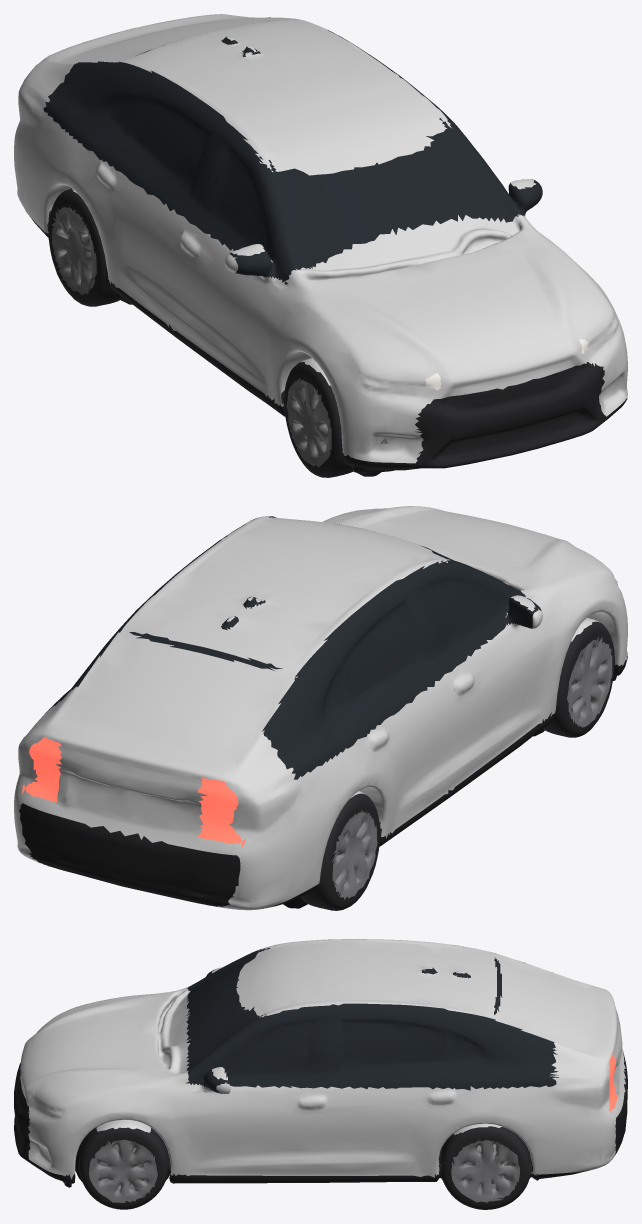
The model's file is EverydaySedan.fbx.
The picture shows the model from 3 angles, top to bottom: view 1: azimuth 30°, elevation 25°; view 2: azimuth 150°, elevation 25°; view 3: azimuth 270°, elevation 25°; orthographic projection. The views are drawn at different scales.
Parts seen in each view (by area): view 1: Body_Paint, Glass, Body_Trim, Wheel_FL_rim, Wheel_RL_rim, Wheel_RL_tyre, Wheel_FL_tyre; view 2: Body_Paint, Glass, Body_Trim, LightsRear, Wheel_FL_rim, Wheel_RL_rim, Wheel_RL_tyre, Wheel_FL_tyre; view 3: Body_Paint, Glass, Body_Trim, Wheel_RR_rim, Wheel_FR_rim, Wheel_RR_tyre, Wheel_FR_tyre.
Boxes of the visible parts, <box> form: Body_Paint: <box>14,14,627,463</box>; Glass: <box>43,17,542,284</box>; Body_Trim: <box>26,211,627,472</box>; Wheel_FL_rim: <box>286,378,331,467</box>; Wheel_RL_rim: <box>51,207,97,294</box>; Wheel_RL_tyre: <box>47,188,123,306</box>; Wheel_FL_tyre: <box>281,362,353,477</box>; Body_Paint: <box>14,506,627,910</box>; Glass: <box>45,516,541,779</box>; Body_Trim: <box>19,652,627,908</box>; LightsRear: <box>22,737,245,847</box>; Wheel_FL_rim: <box>567,636,612,727</box>; Wheel_RL_rim: <box>332,810,377,899</box>; Wheel_RL_tyre: <box>300,793,381,910</box>; Wheel_FL_tyre: <box>543,621,614,737</box>; Body_Paint: <box>20,939,625,1179</box>; Glass: <box>185,939,558,1093</box>; Body_Trim: <box>14,1051,627,1187</box>; Wheel_RR_rim: <box>451,1139,519,1202</box>; Wheel_FR_rim: <box>89,1139,157,1202</box>; Wheel_RR_tyre: <box>438,1126,532,1209</box>; Wheel_FR_tyre: <box>78,1127,170,1209</box>.
Bounding box in the file's own units: 771 × 604 × 1700.
